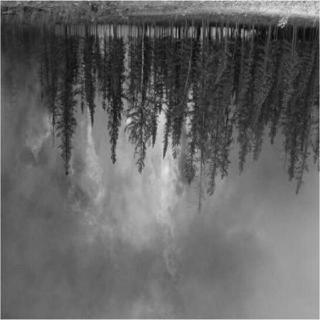Fire: (67, 112, 107, 230), (20, 108, 54, 178)
